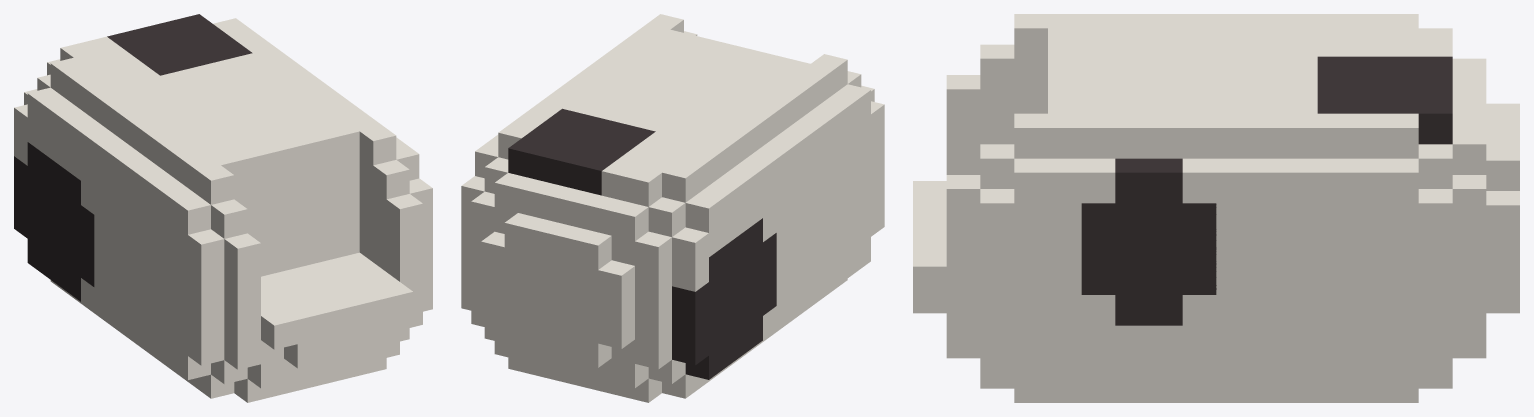
Rendered from calf__body.obj.
3 renders of one model, left to right at view 1: azimuth 30°, elevation 25°; view 2: azimuth 150°, elevation 25°; view 3: azimuth 270°, elevation 25°, orthographic. The views are drawn at different scales.
Visible parts, largest first — view 1: calf__body; view 2: calf__body; view 3: calf__body.
Boxes of the visible parts, x1,y1,x2,y2 form: calf__body: (14,14,432,402); calf__body: (461,14,884,402); calf__body: (913,14,1519,402).
Size of the model in its own units: 1 by 0.9 by 1.8.
Materials: 1 (1 with a texture image).
